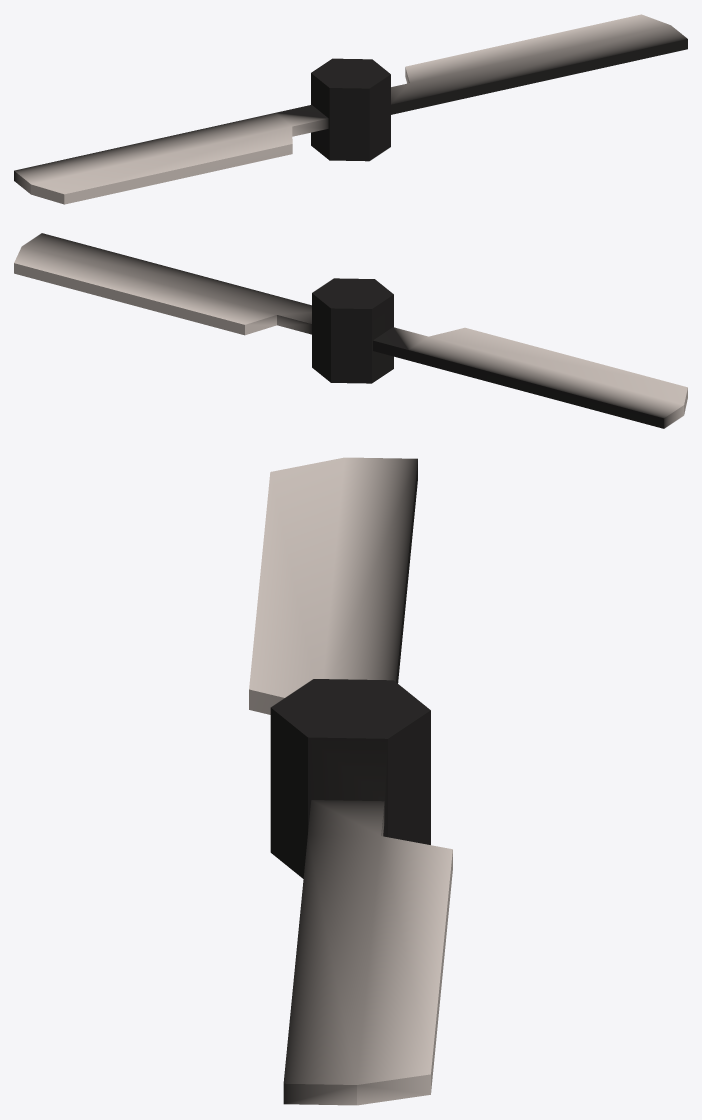
The model's file is FanTop.glb.
The picture shows the model from 3 angles, top to bottom: view 1: azimuth 30°, elevation 25°; view 2: azimuth 150°, elevation 25°; view 3: azimuth 270°, elevation 25°; orthographic projection. The views are drawn at different scales.
Parts seen in each view (by area): view 1: FanBlade; view 2: FanBlade; view 3: FanBlade.
Boxes of the visible parts, x1,y1,x2,y2 form: FanBlade: (14, 14, 687, 204); FanBlade: (14, 233, 687, 428); FanBlade: (249, 457, 452, 1105).
Bounding box in the file's own units: 1.81 × 0.1958 × 0.2491.
1 material, 1 textured.
